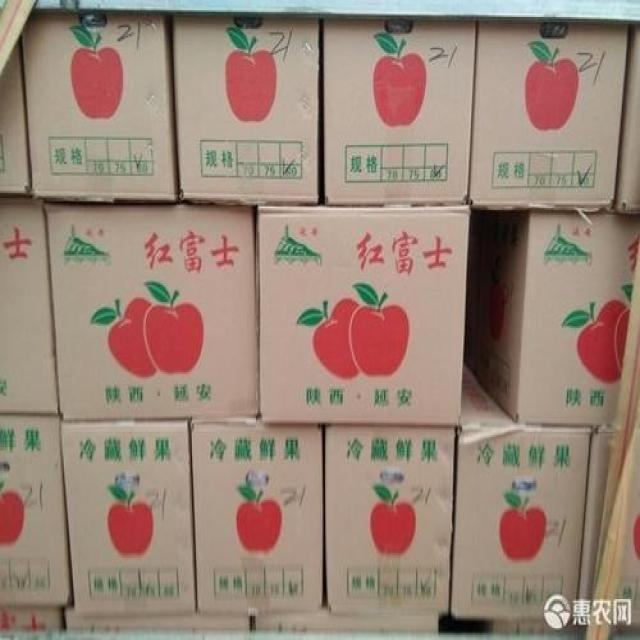box: (254, 204, 468, 427), (43, 202, 256, 418), (463, 212, 639, 426), (450, 363, 592, 619), (469, 23, 630, 210), (20, 11, 177, 201), (320, 19, 475, 205), (170, 13, 320, 205), (58, 417, 196, 615), (188, 417, 323, 613), (323, 427, 455, 613), (0, 416, 70, 606), (0, 198, 59, 417), (574, 425, 612, 620), (0, 38, 30, 198), (614, 26, 639, 212), (64, 609, 250, 631), (251, 612, 438, 633), (0, 608, 61, 630)
